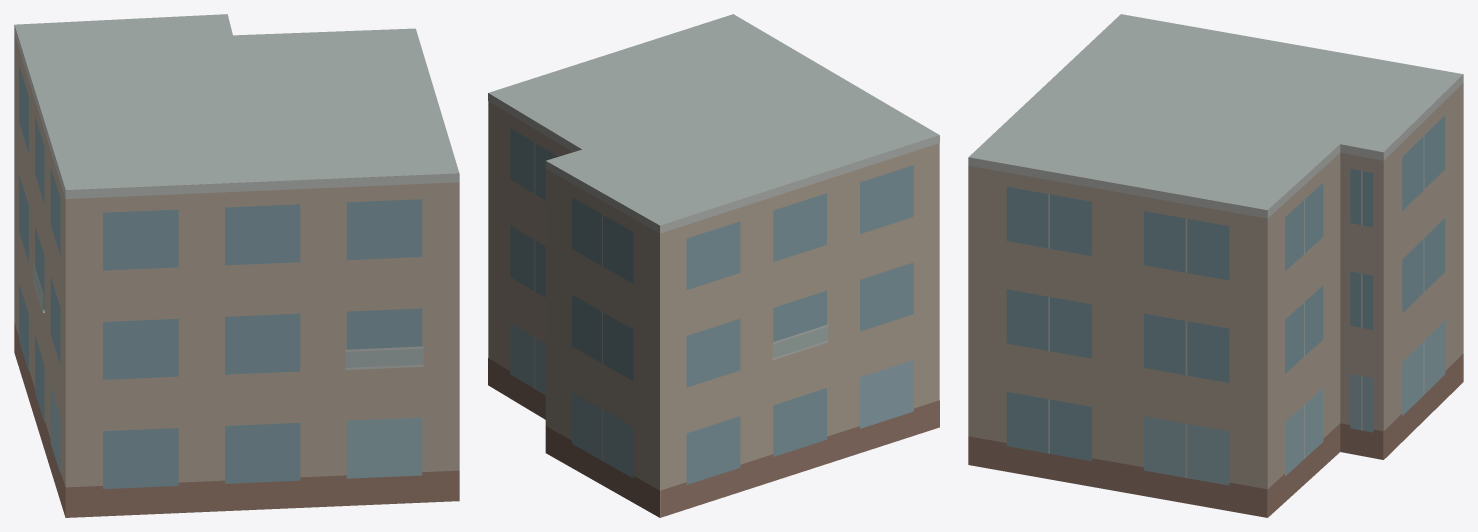
File: survey-upis-32566016.glb
3 renders of one model, left to right at view 1: azimuth 30°, elevation 25°; view 2: azimuth 150°, elevation 25°; view 3: azimuth 270°, elevation 25°, orthographic. The views are drawn at different scales.
Visible parts, largest first — view 1: survey-upis-32566016.tmp; view 2: survey-upis-32566016.tmp; view 3: survey-upis-32566016.tmp.
Boxes of the visible parts, x1,y1,x2,y2 form: survey-upis-32566016.tmp: (14, 14, 459, 517); survey-upis-32566016.tmp: (488, 14, 939, 517); survey-upis-32566016.tmp: (968, 14, 1463, 517).
Bounding box in the file's own units: 12.25 × 8.95 × 13.06.
